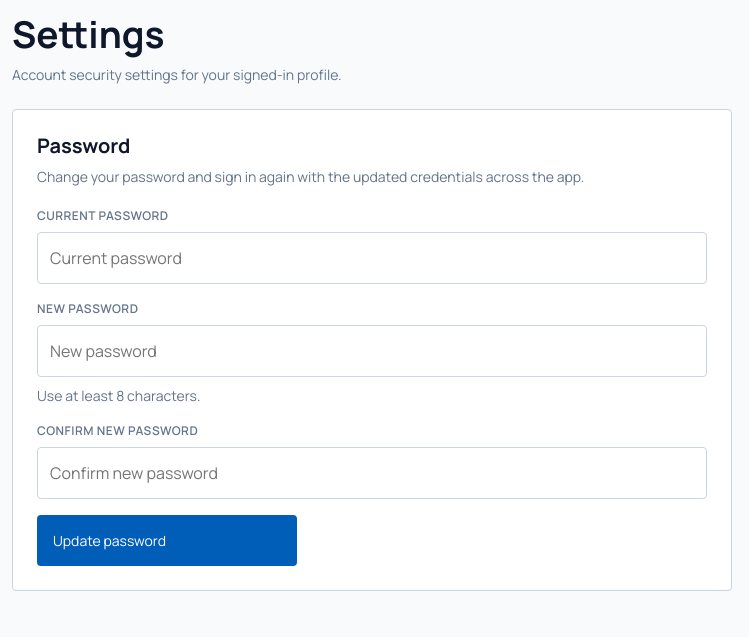
Test case: SettingsPage › blocks submission when password confirmation does not match
Type "password123" into the password field with id "current-password" at (372, 258), box x1=37 y1=232 x2=707 y2=284
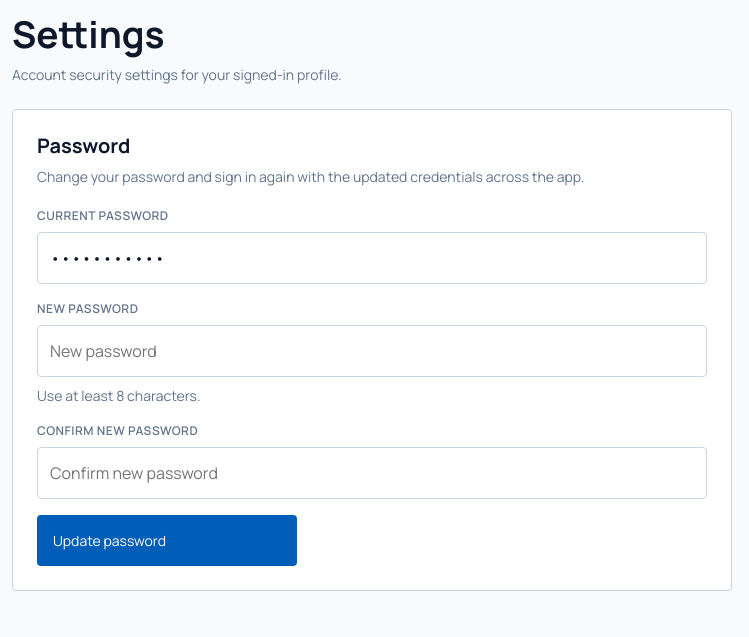
Type "new-password123" into the password field with id "new-password" at (372, 351), box x1=37 y1=325 x2=707 y2=377
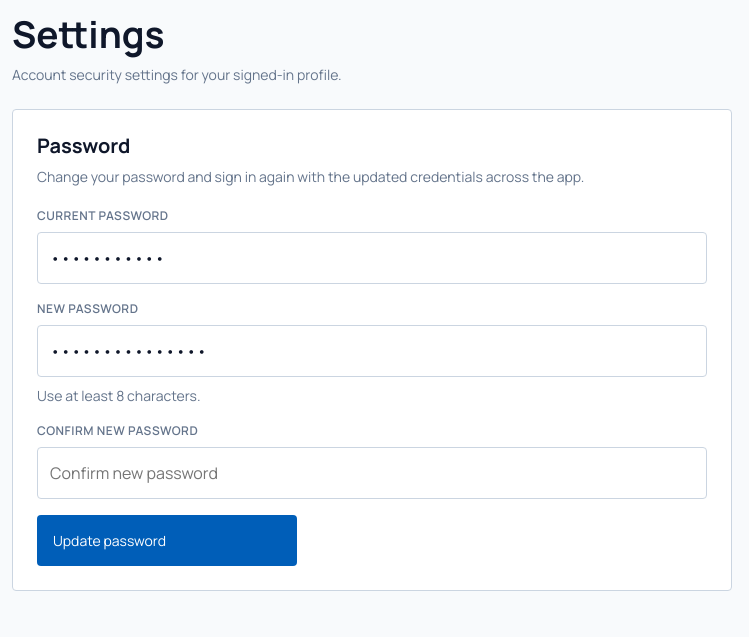
Type "different-password123" into the password field with id "confirm-new-password" at (372, 473), box x1=37 y1=447 x2=707 y2=499
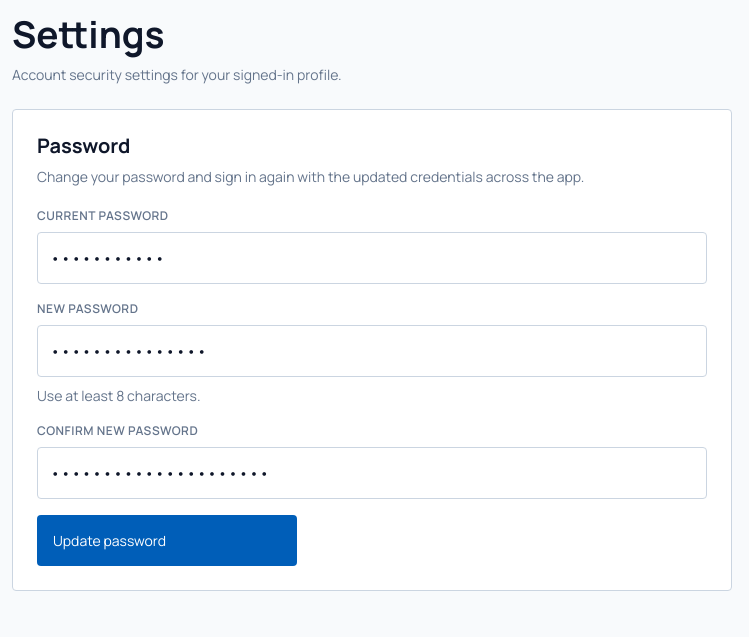
Submit the form, box x1=37 y1=207 x2=707 y2=566
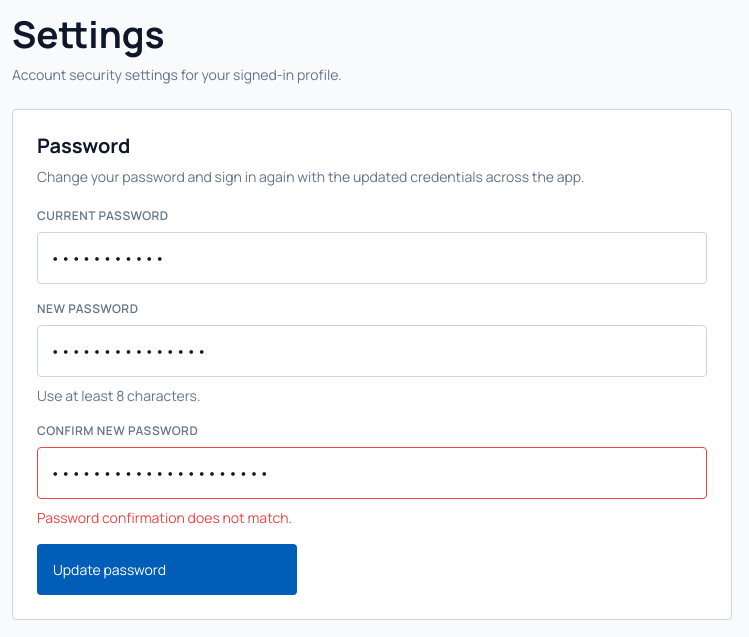
Result: the text "Password confirmation does not match." is shown at x1=37 y1=508 x2=292 y2=527
